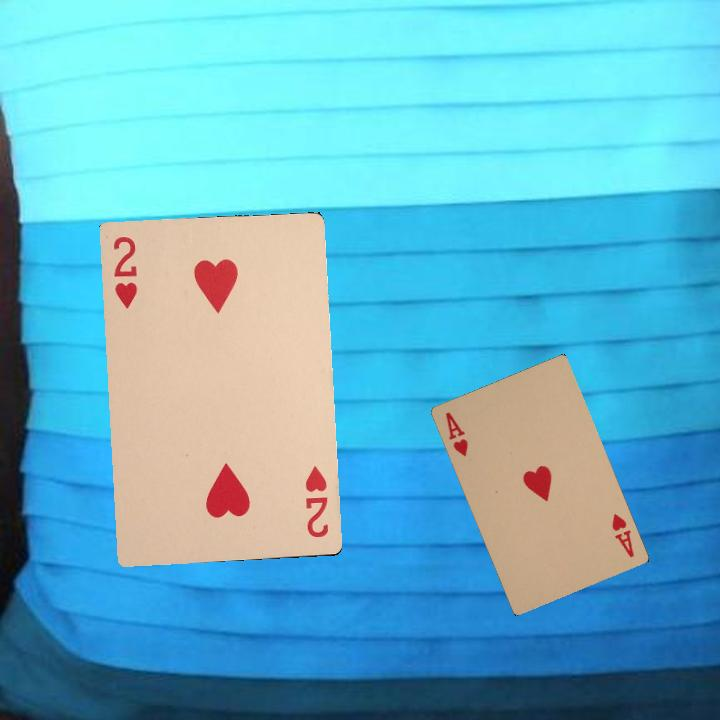2h: (109, 232, 140, 312), (301, 462, 331, 541)
Ah: (441, 408, 470, 459), (608, 509, 636, 560)
